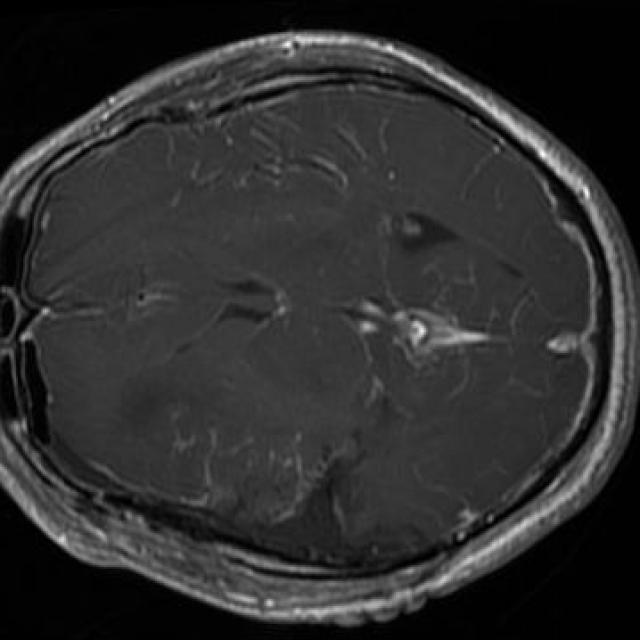glioma: (198, 447, 419, 565)
